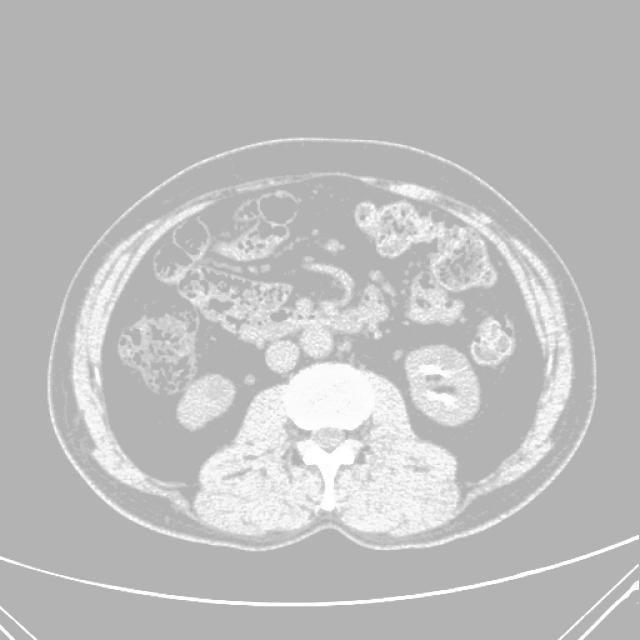STONE: (123, 234, 537, 473)
